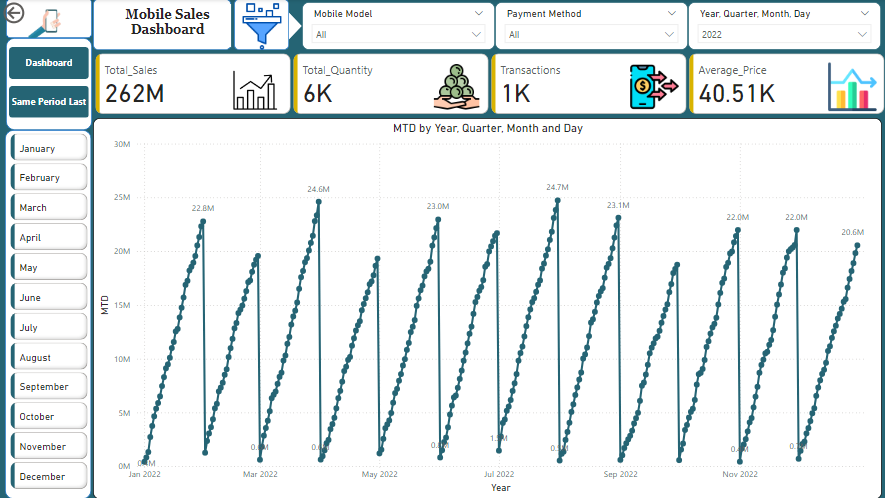

The page's visual inventory and layout, read from the dashboard file:
{"tool":"powerbi","page":{"name":"MTD Report","canvas":[1280,720],"ordinal":1},"visuals":[{"type":"shape","box":[7.1,188.6,124.3,531.4],"z":0},{"type":"shape","box":[377.3,8.6,57.6,60.5],"z":1000},{"type":"shape","box":[8.6,0,123.8,56.2],"z":2000},{"type":"image","box":[36,0,69.1,69.1],"z":3000},{"type":"shape","box":[8.6,56.2,123.8,132.5],"z":4000},{"type":"cardVisual","fields":{"Data":["Mobile_Sales_Data.Total_Sales","Mobile_Sales_Data.Total_Quantity","Mobile_Sales_Data.Transactions","Mobile_Sales_Data.Average_Price"]},"box":[132.5,73.4,1147.7,97.9],"z":5000},{"type":"slicer","fields":{"Values":["Mobile_Sales_Data.Mobile Model"]},"box":[434.9,4.3,277.9,69.1],"z":6000},{"type":"slicer","fields":{"Values":["Mobile_Sales_Data.Payment Method"]},"box":[712.8,4.3,277.9,69.1],"z":7000},{"type":"slicer","fields":{"Values":["Custom_Calendar.Date.Variation.Date Hierarchy.Year","Custom_Calendar.Date.Variation.Date Hierarchy.Quarter","Custom_Calendar.Date.Variation.Date Hierarchy.Month","Custom_Calendar.Date.Variation.Date Hierarchy.Day"]},"box":[990.7,4.3,277.9,69.1],"z":8000},{"type":"shape","box":[337,0,79.2,73.4],"z":9000},{"type":"image","box":[293.8,0,167,79.2],"z":10000},{"type":"shape","box":[133.9,0,198.7,73.4],"z":11000},{"type":"textbox","box":[149.8,7.2,182.9,61.9],"z":12000},{"type":"actionButton","box":[0,0,100,40],"z":13000},{"type":"lineChart","fields":{"Category":["Custom_Calendar.Date.Variation.Date Hierarchy.Year","Custom_Calendar.Date.Variation.Date Hierarchy.Quarter","Custom_Calendar.Date.Variation.Date Hierarchy.Month","Custom_Calendar.Date.Variation.Date Hierarchy.Day"],"Y":["Mobile_Sales_Data.MTD"]},"box":[134.3,171.4,1135.7,548.6],"z":14000},{"type":"advancedSlicerVisual","fields":{"Values":["Custom_Calendar.Date.Variation.Date Hierarchy.Month"]},"box":[10,188.6,121.4,531.4],"z":15000},{"type":"pageNavigator","box":[13,69.1,115.2,102.2],"z":16000}]}

Visuals, with their boxes in screenshot pixels (x1, y1, x2, y2), scaled from the page's 1280x720 canvas onto the 885x498 screenshot:
shape: bbox(5, 130, 91, 497)
shape: bbox(261, 6, 301, 48)
shape: bbox(6, 0, 92, 39)
image: bbox(25, 0, 73, 48)
shape: bbox(6, 39, 92, 131)
cardVisual - Mobile_Sales_Data.Total_Sales x Mobile_Sales_Data.Total_Quantity: bbox(92, 51, 884, 118)
slicer - Mobile_Sales_Data.Mobile Model: bbox(301, 3, 493, 51)
slicer - Mobile_Sales_Data.Payment Method: bbox(493, 3, 685, 51)
slicer - Custom_Calendar.Date.Variation.Date Hierarchy.Year x Custom_Calendar.Date.Variation.Date Hierarchy.Quarter: bbox(685, 3, 877, 51)
shape: bbox(233, 0, 288, 51)
image: bbox(203, 0, 319, 55)
shape: bbox(93, 0, 230, 51)
textbox: bbox(104, 5, 230, 48)
actionButton: bbox(0, 0, 69, 28)
lineChart - Custom_Calendar.Date.Variation.Date Hierarchy.Year x Custom_Calendar.Date.Variation.Date Hierarchy.Quarter: bbox(93, 119, 878, 497)
advancedSlicerVisual - Custom_Calendar.Date.Variation.Date Hierarchy.Month: bbox(7, 130, 91, 497)
pageNavigator: bbox(9, 48, 89, 118)
